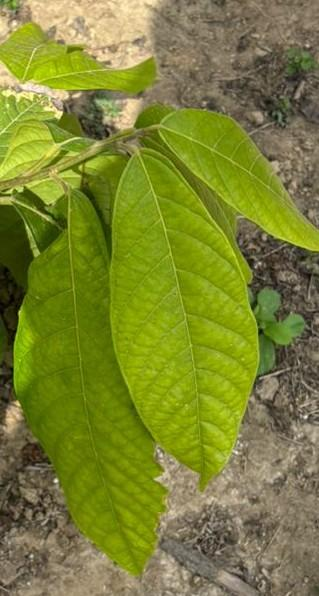deficiencia_nitrogeno: (15, 191, 164, 574), (111, 149, 256, 487), (160, 110, 318, 249)
